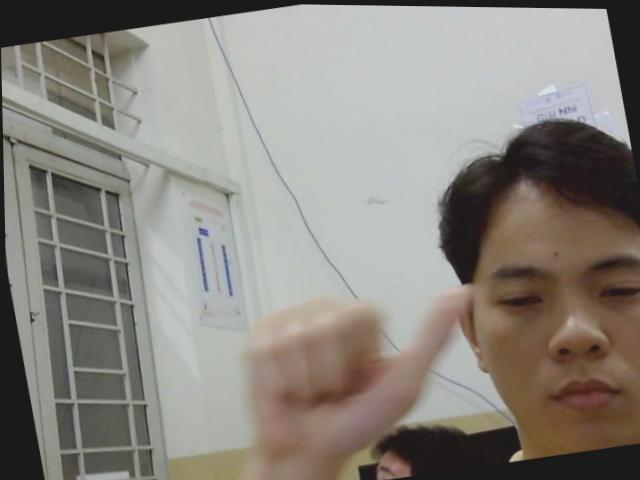A: (229, 277, 503, 468)
